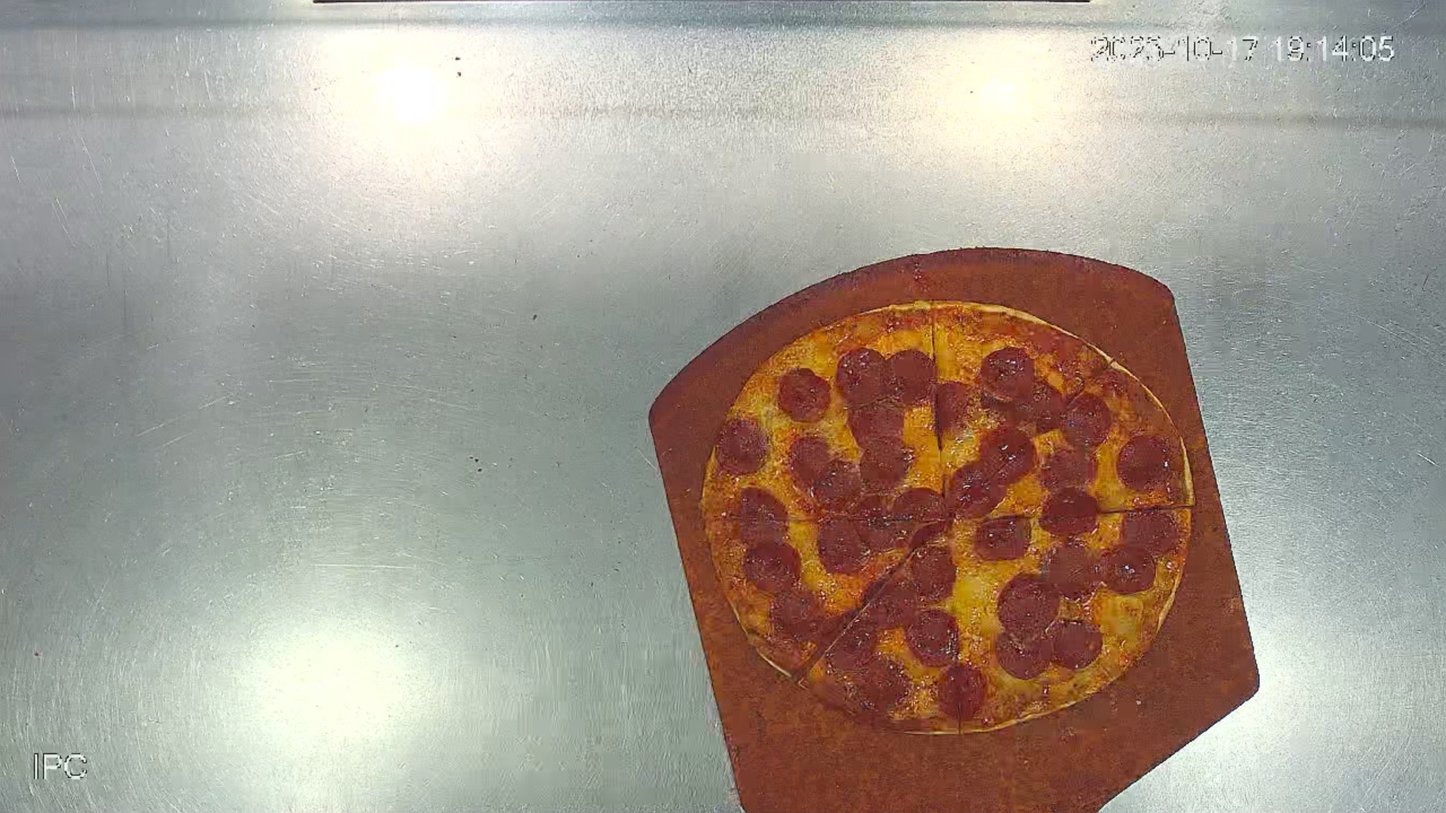pepperoni: (698, 293, 1199, 737)
